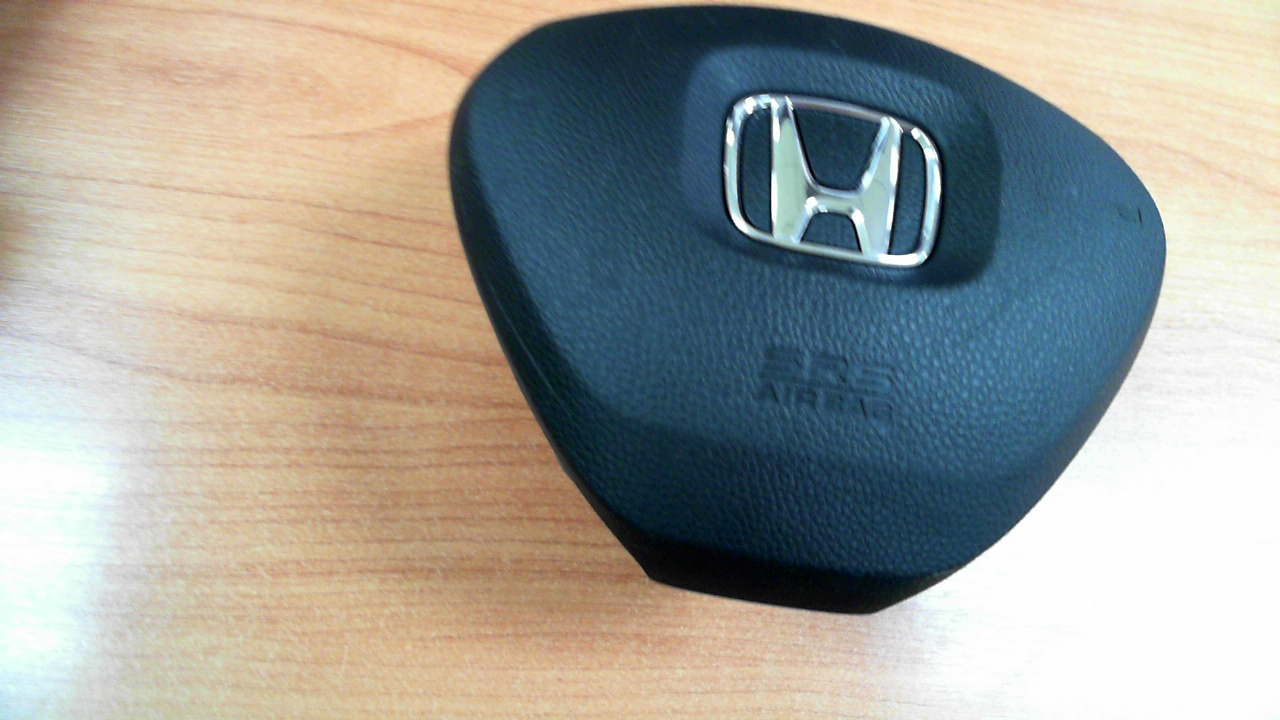Airbag: (445, 2, 1169, 619)
Honda: (723, 93, 942, 267)
